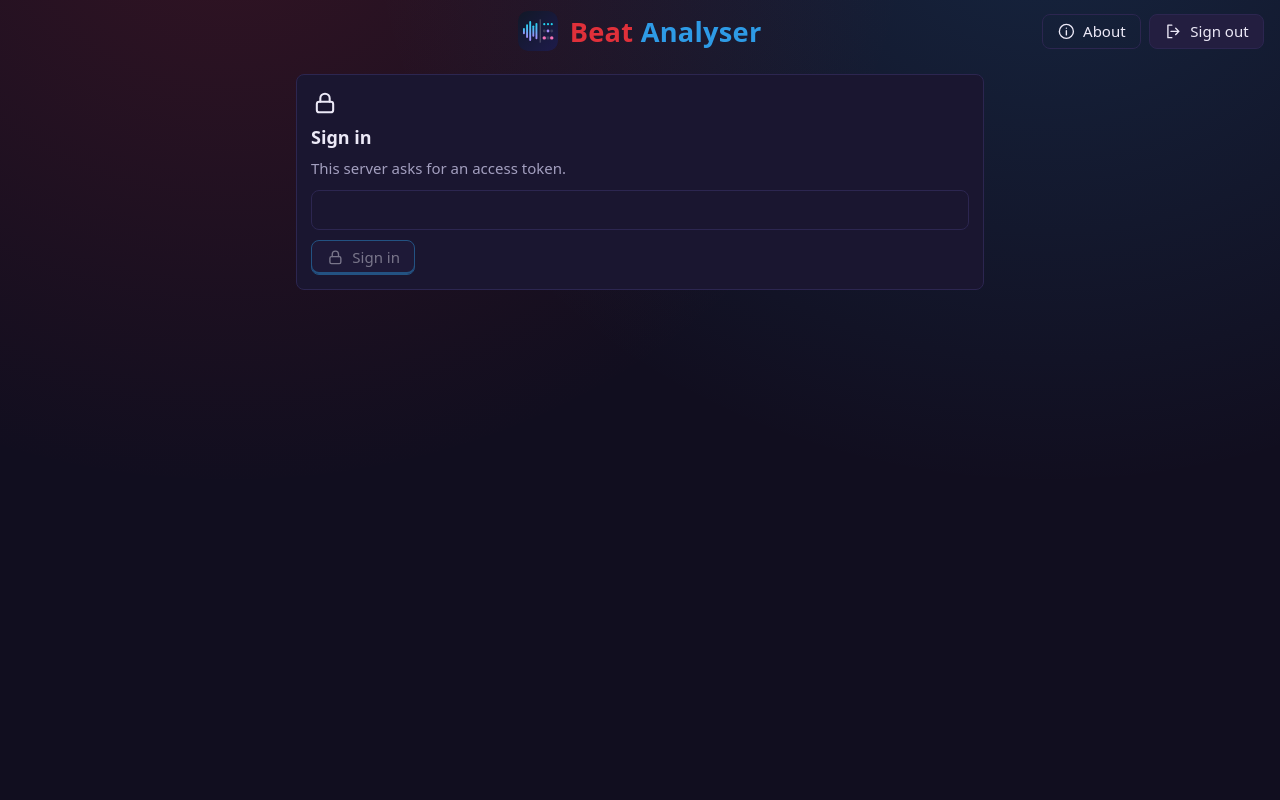
App sign-in › Sign out posts /logout and returns to the Sign in page
Type "tok" into the password field named "Access token" at (640, 210), box [311, 190, 969, 230]
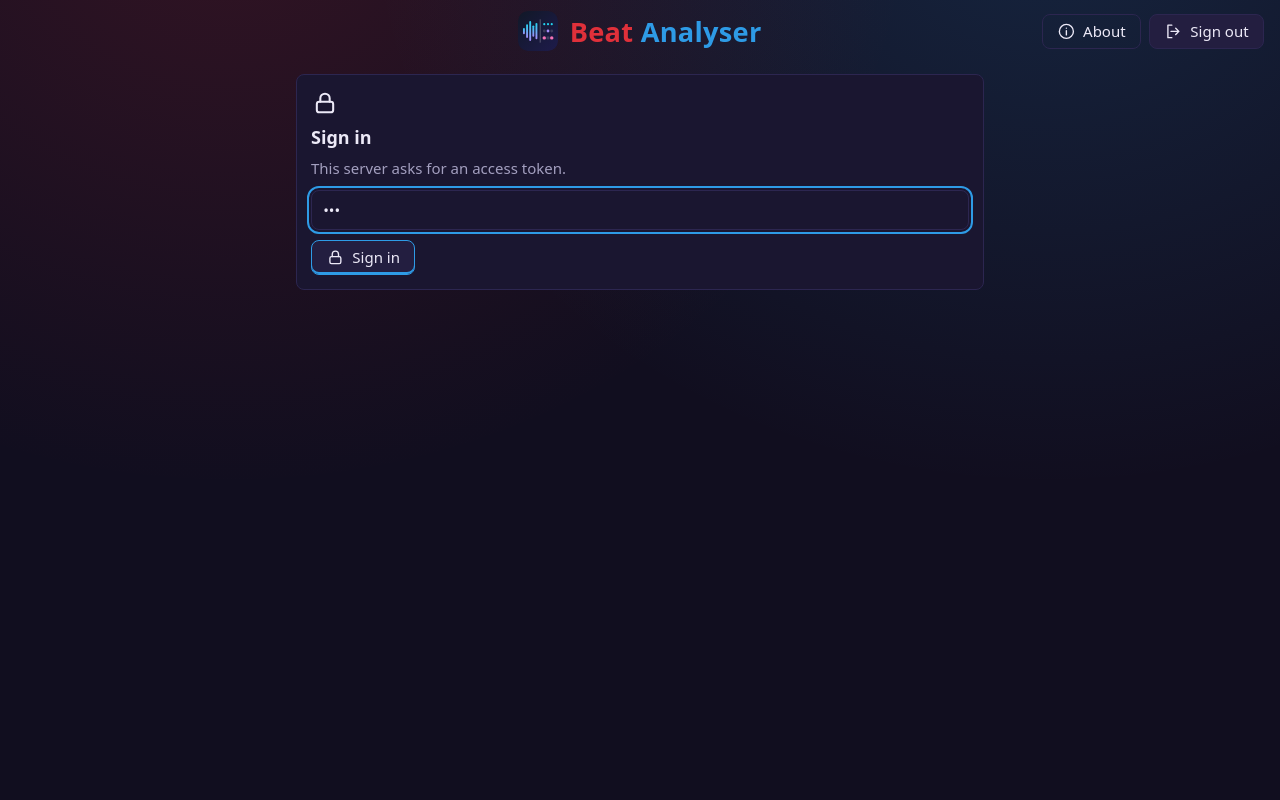
Click the button "Sign in" at (363, 257), box [311, 240, 415, 275]
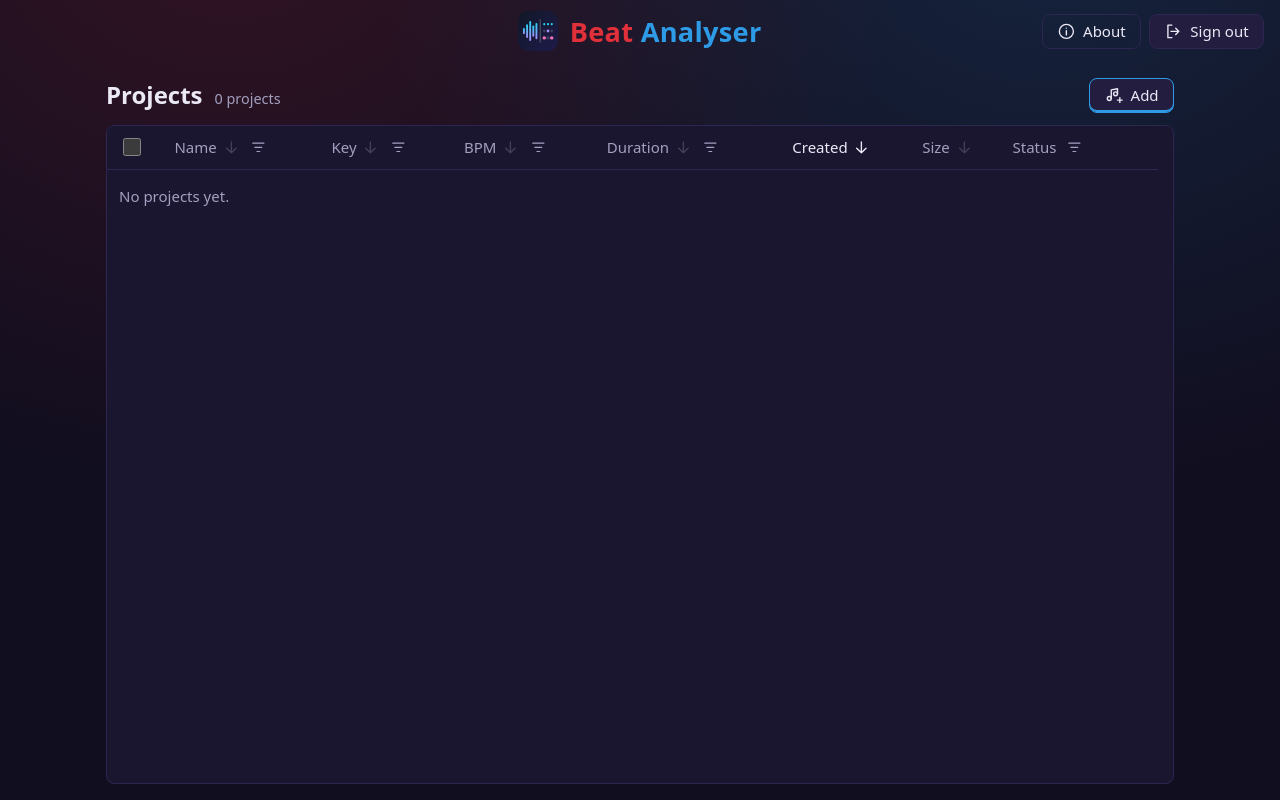
Click the button "Sign out" at (1206, 31), box [1149, 14, 1264, 49]
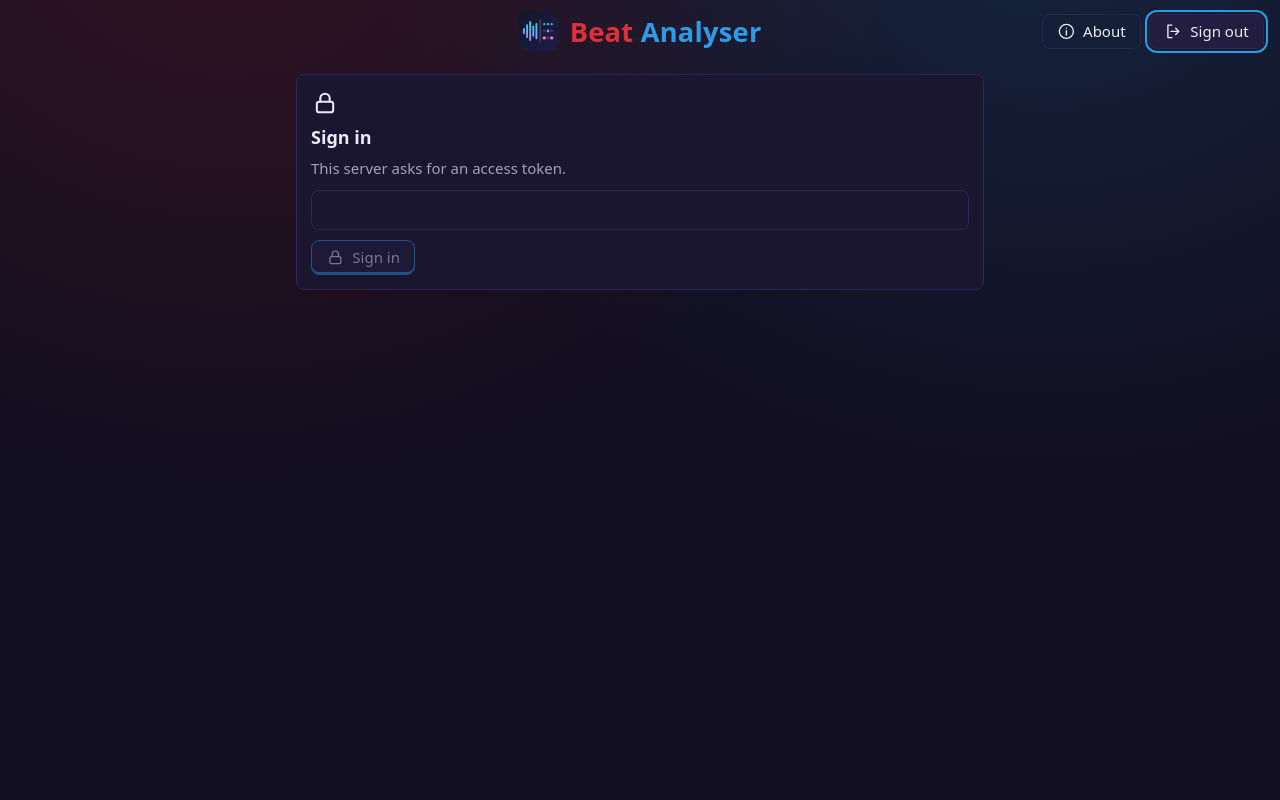
Expected: the password field named "Access token" is shown, [311, 190, 969, 230]
